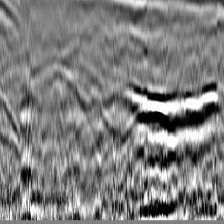cavities: (126, 75, 224, 224)
